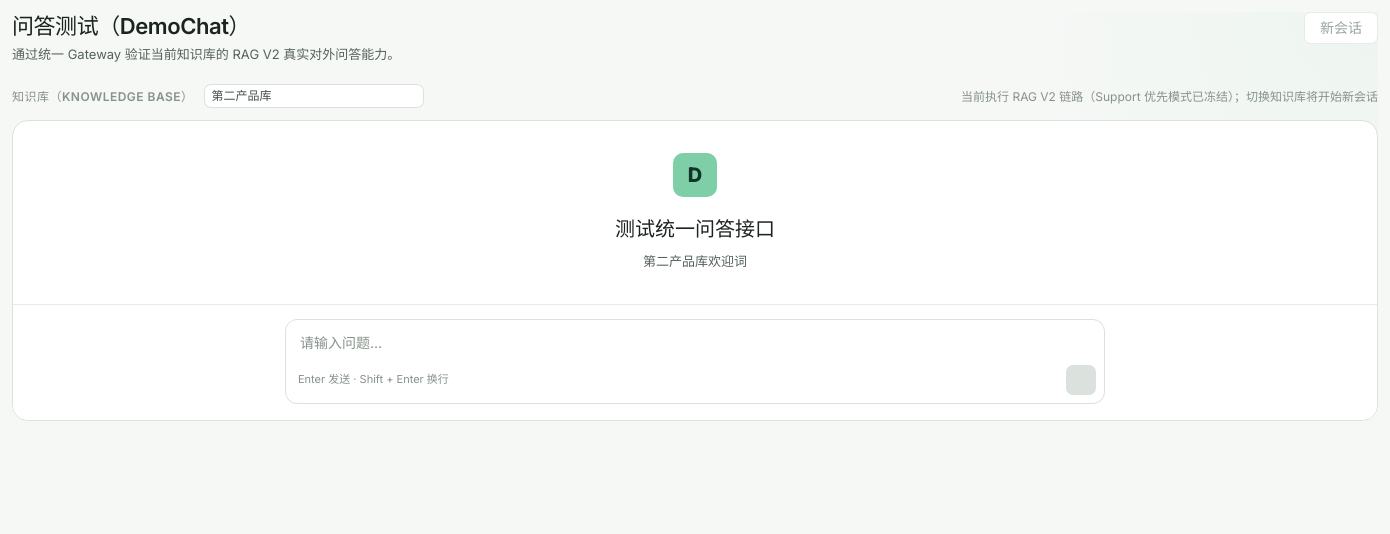
Test: DemoChat › starts a new conversation and sends the newly selected knowledge base
Type "第二知识库的问题" into the text box with placeholder "请输入问题…" at [695, 339], box [286,320,1104,359]
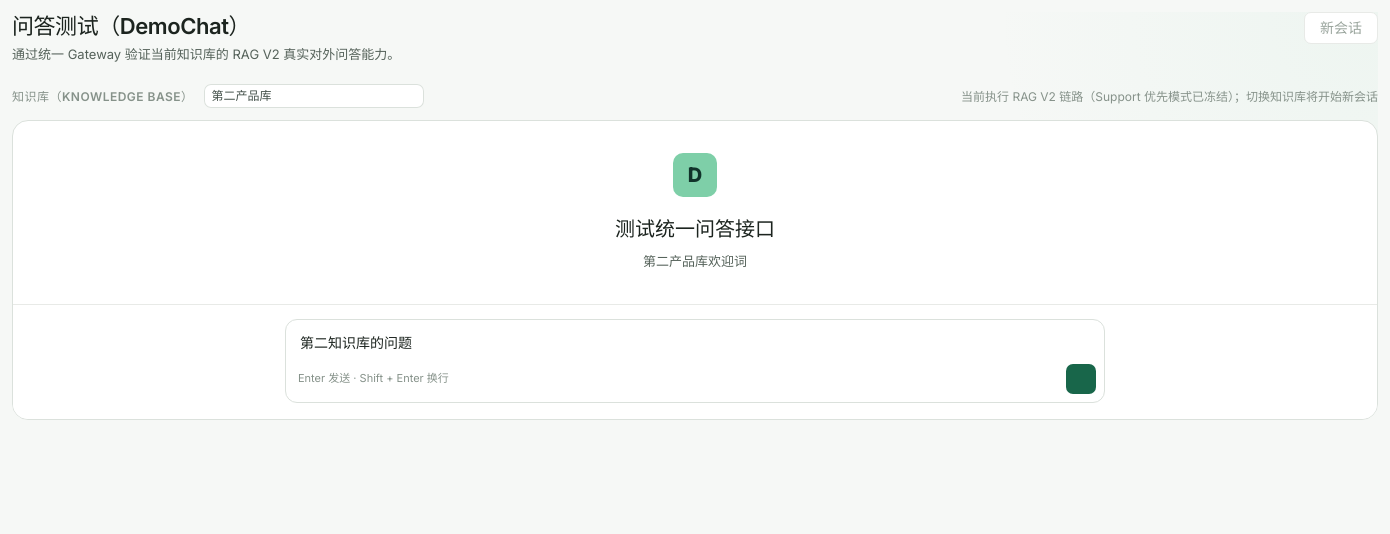
Press Enter in the text box, box [286,320,1104,358]
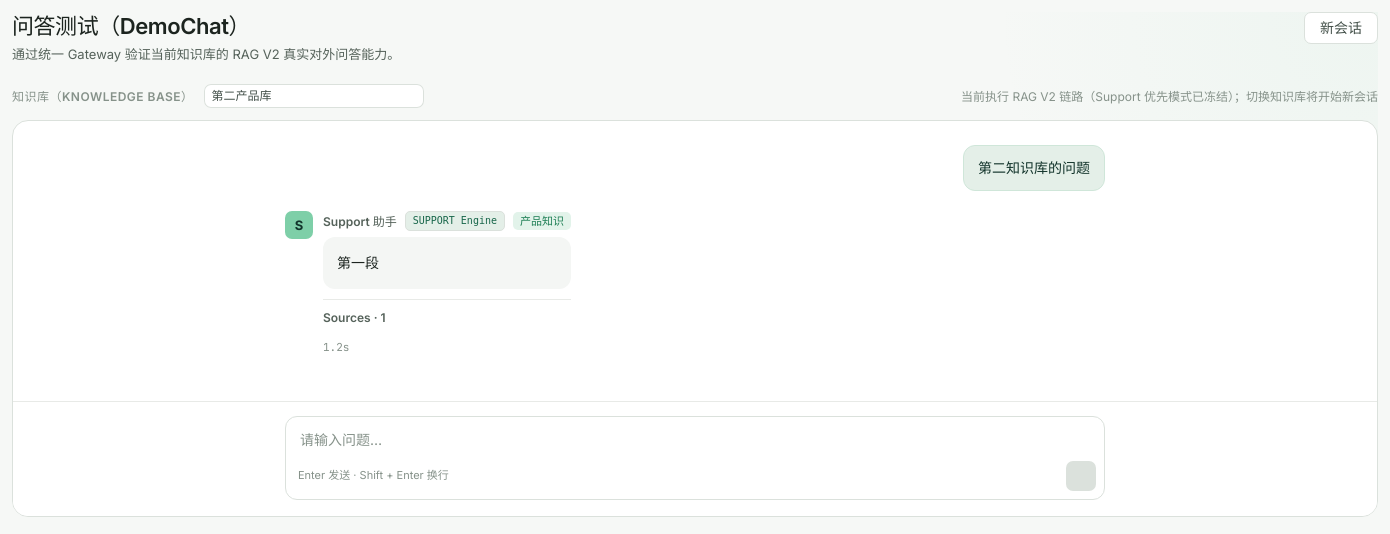
Result: the text "SUPPORT Engine" is shown at [405,211,505,231]
